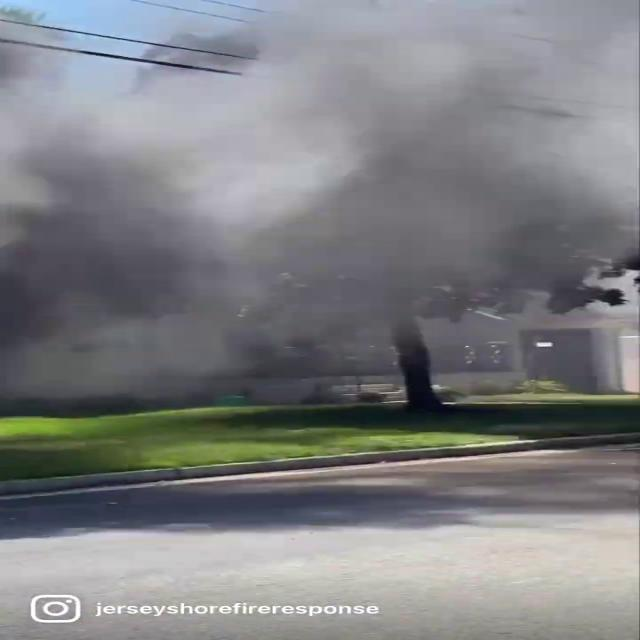Smoke: (1, 0, 638, 394)
